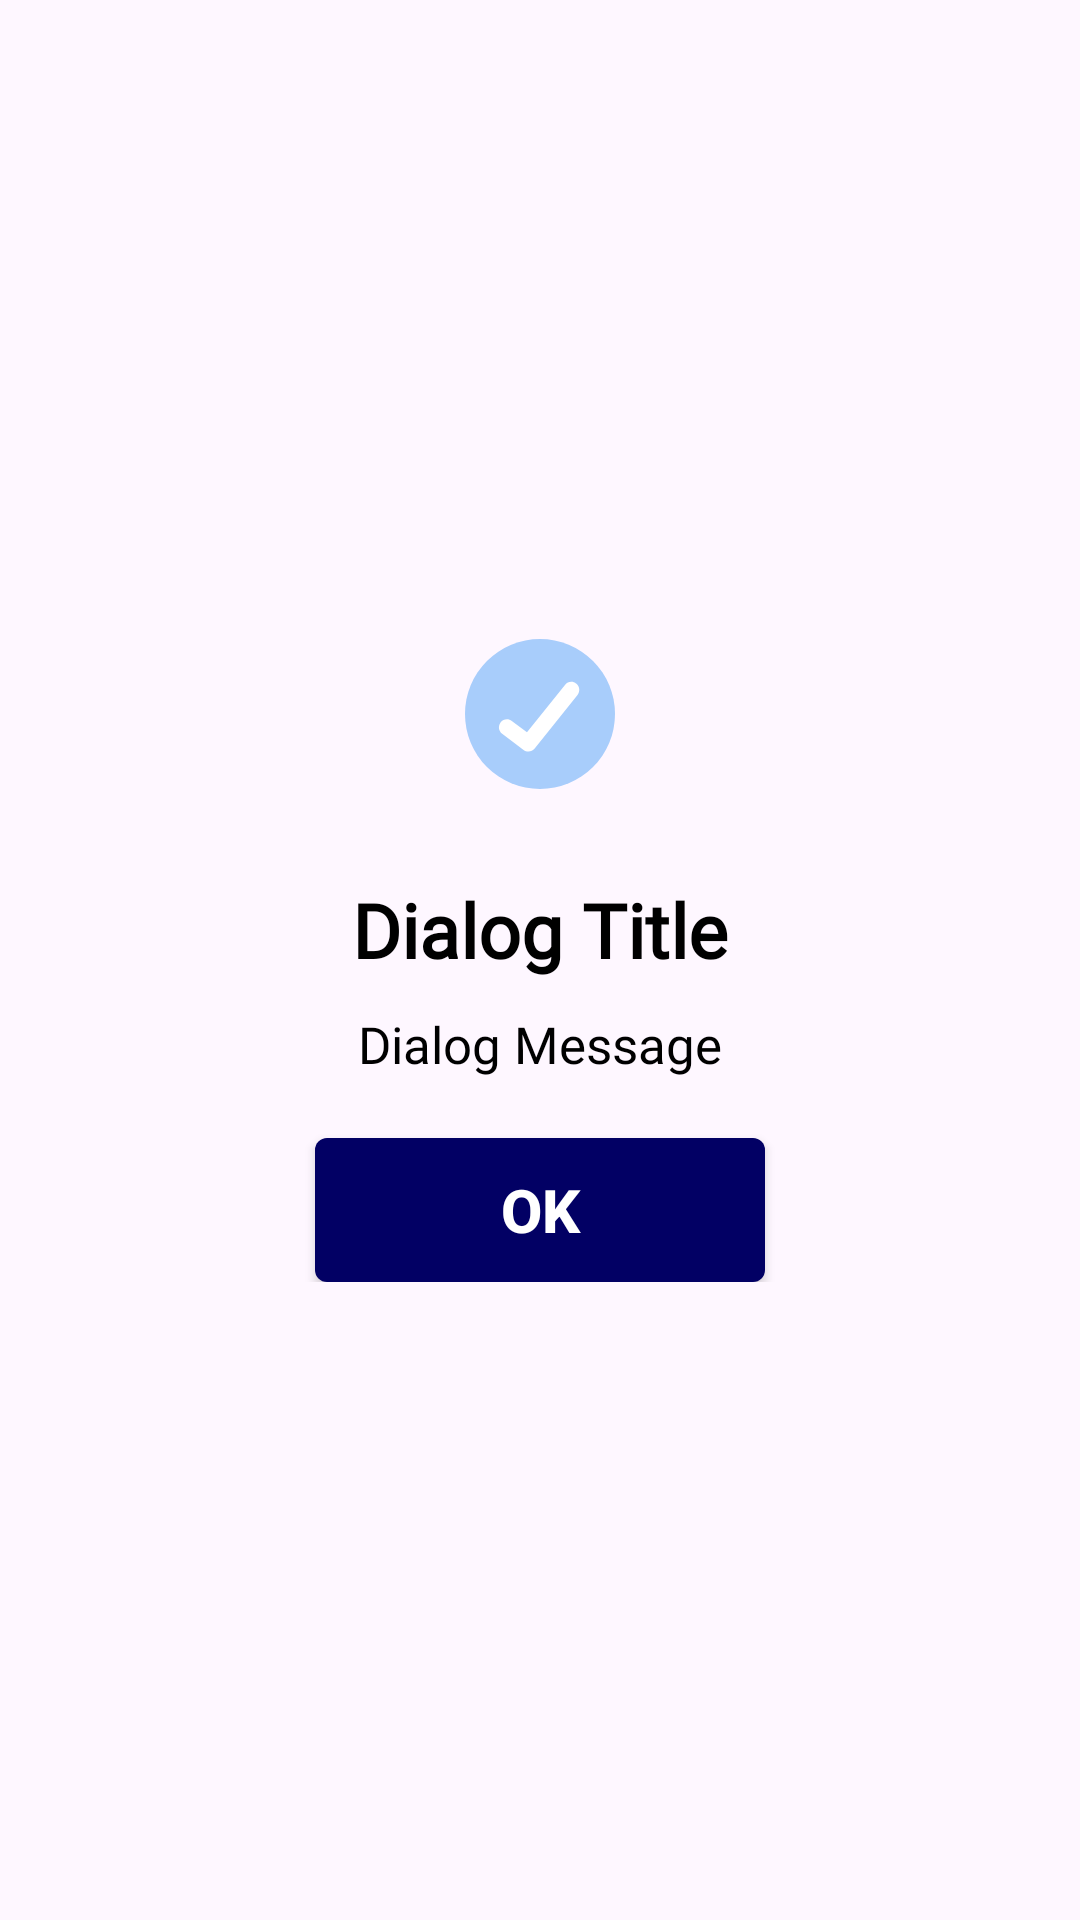

Named icons in this screenshot (1080x1920) and their bounding boxes, [x1=x1, y1=y1, x2=x2, y2=y2]:
success: [x1=465, y1=639, x2=615, y2=789]
